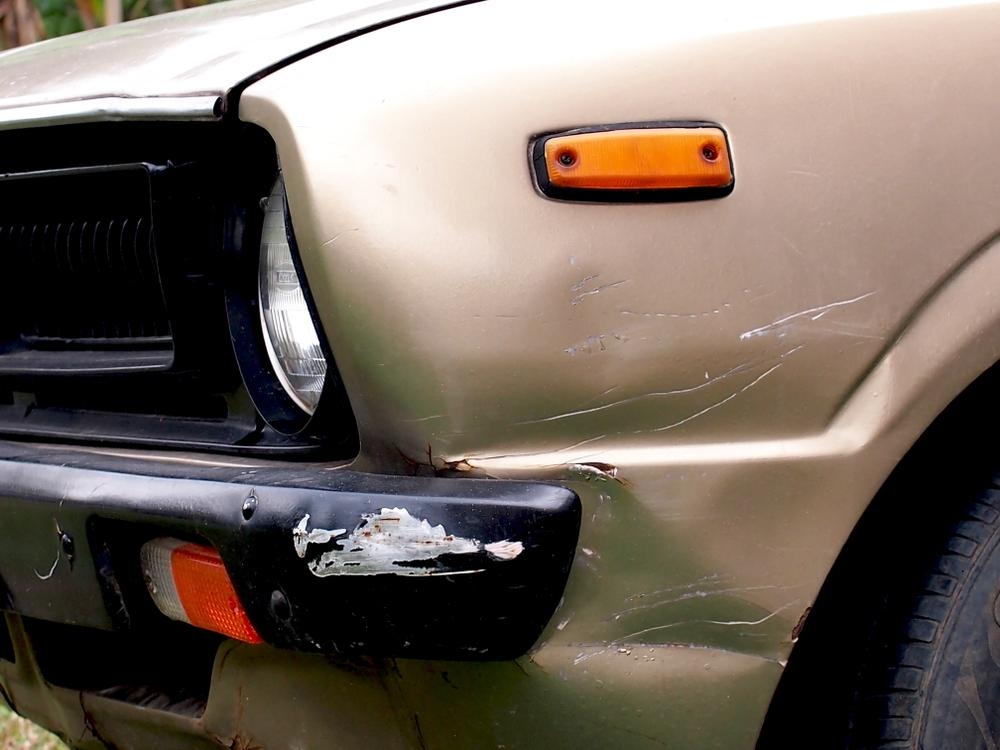crack: (33, 515, 78, 582)
dent: (450, 251, 889, 684)
scratch: (286, 502, 539, 585)
